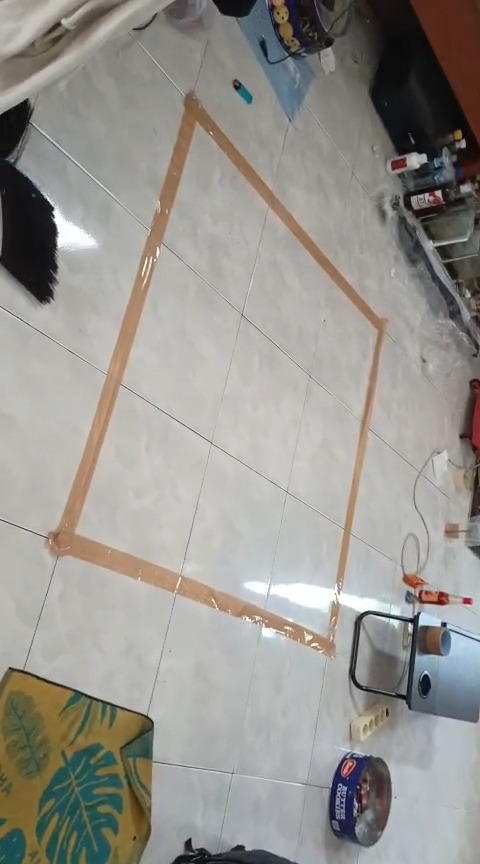floor marking: (49, 94, 386, 657)
